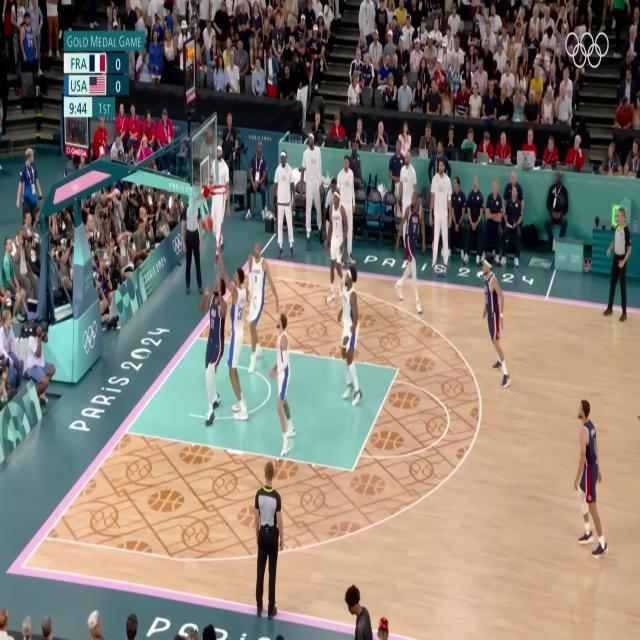player: (574, 401, 614, 567), (265, 296, 301, 464), (476, 259, 514, 397), (220, 262, 250, 428), (335, 264, 364, 415), (243, 244, 274, 377), (398, 184, 421, 322), (206, 274, 225, 436), (323, 177, 348, 299)
